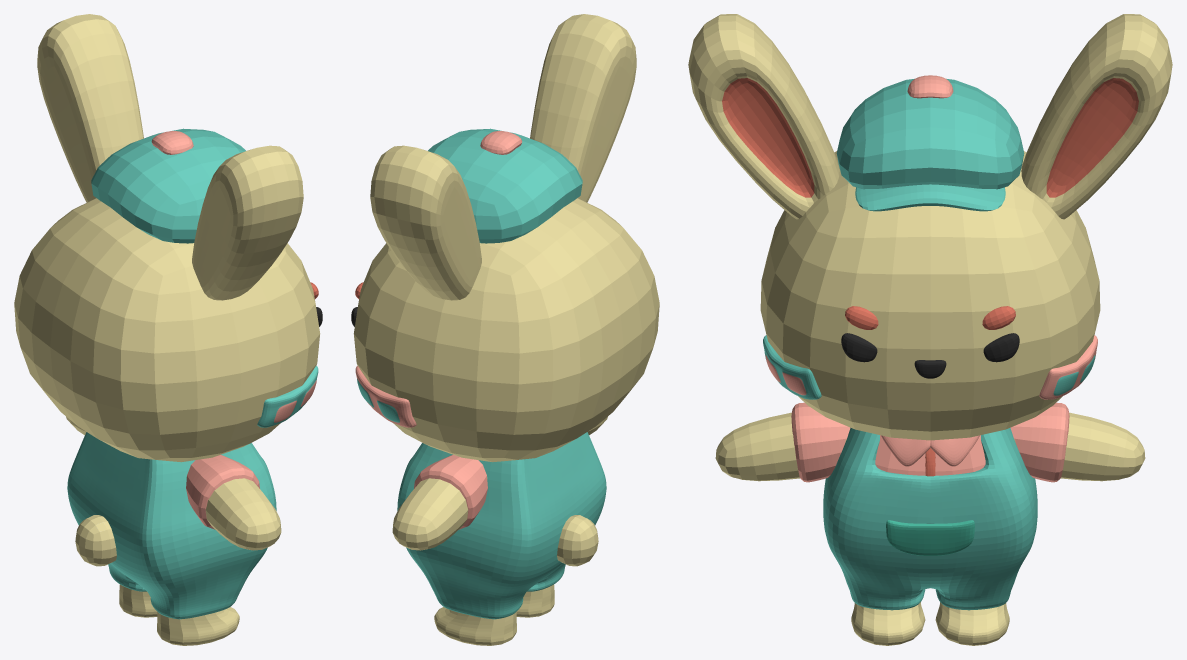
File: Sunny.glb
3 views of the same model, side by side, from view 1: azimuth 30°, elevation 25°; view 2: azimuth 150°, elevation 25°; view 3: azimuth 270°, elevation 25° (orthographic). The views are drawn at different scales.
Visible parts, largest first — view 1: Cabeza; view 2: Cabeza; view 3: Cabeza.
Part boxes in pixels (left/top/right/bottom): Cabeza: left=14, top=14, right=322, bottom=645; Cabeza: left=351, top=14, right=659, bottom=645; Cabeza: left=688, top=14, right=1172, bottom=645.
Size of the model in its own units: 1.9 by 4.07 by 2.94.
